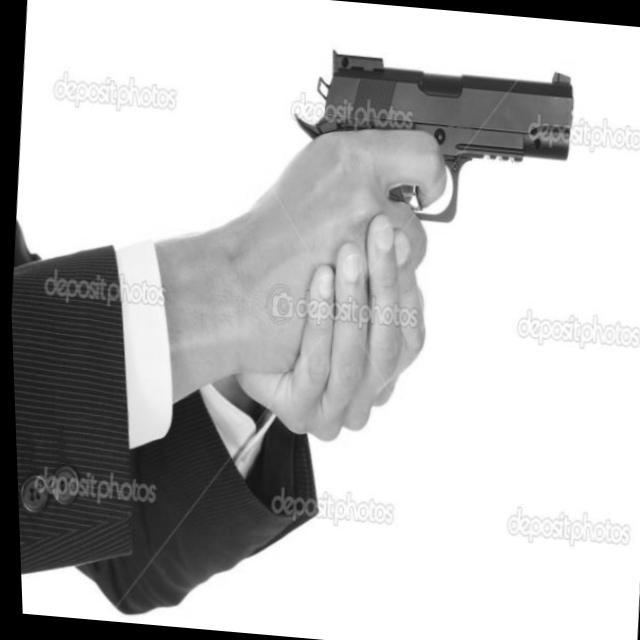weapon: (280, 43, 580, 232)
